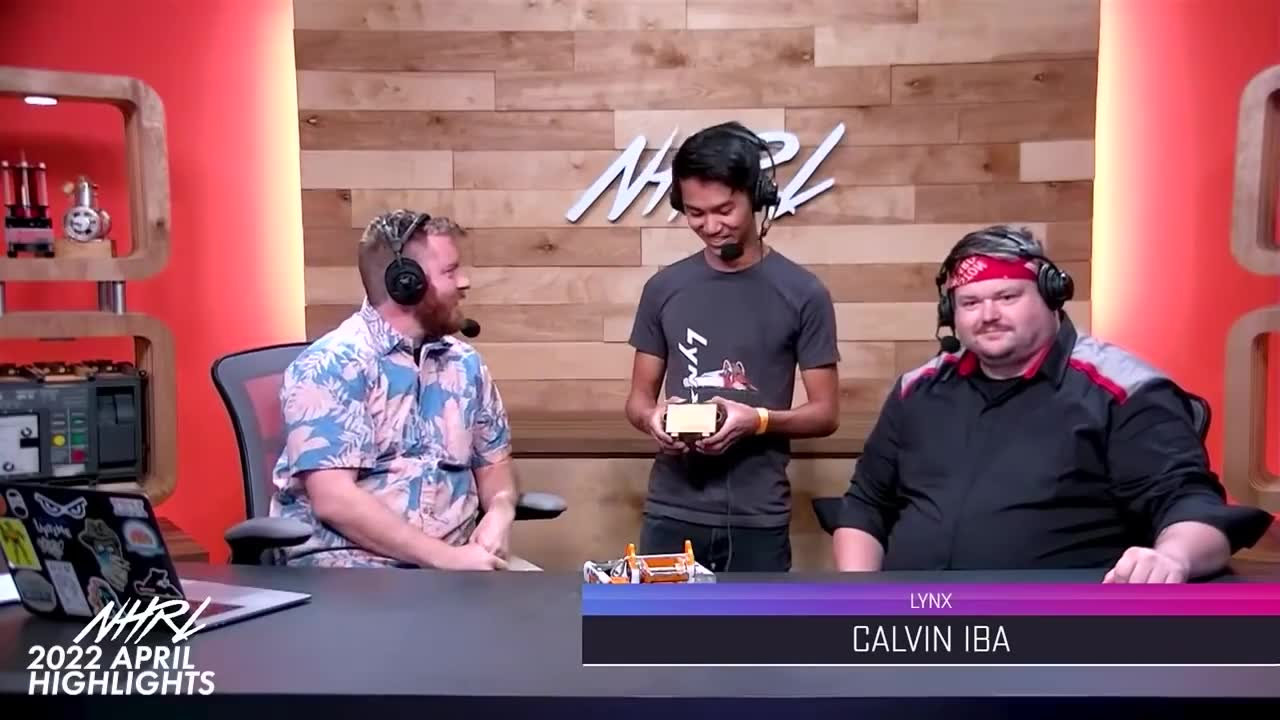combatbot: (577, 541, 725, 582)
